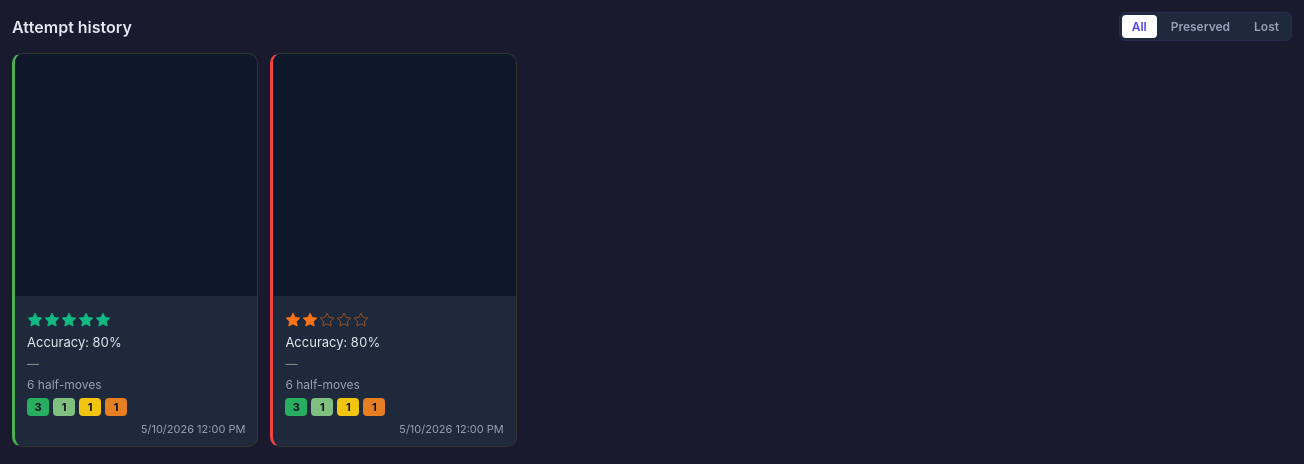
Scenario: <PrecisionAttemptsList> › KS-3173: effectiveSolved = solved || score===5 › фильтр Lost исключает 5★ + solved=false
Check: the list item with test id "precision-attempts-row-legacy-5star" is shown, box [12,53,258,447]
Click the tab with test id "precision-attempts-filter-lost" at coordinates (1267, 26), box [1244,15,1289,38]
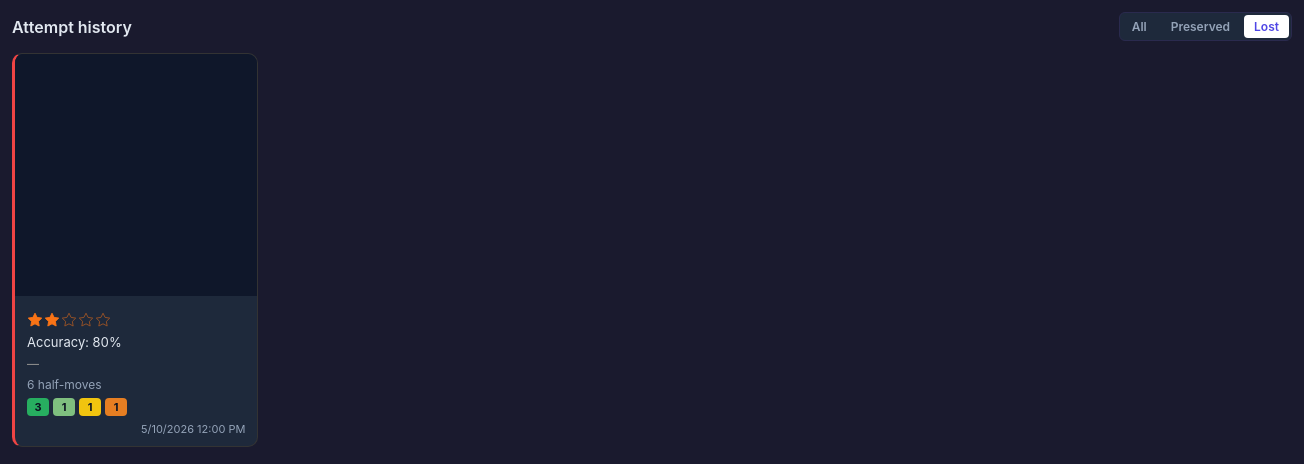
Check: the list item with test id "precision-attempts-row-honest-fail" is shown, box [12,53,258,447]
Check: the list item with test id "precision-attempts-row-legacy-5star" is gone
